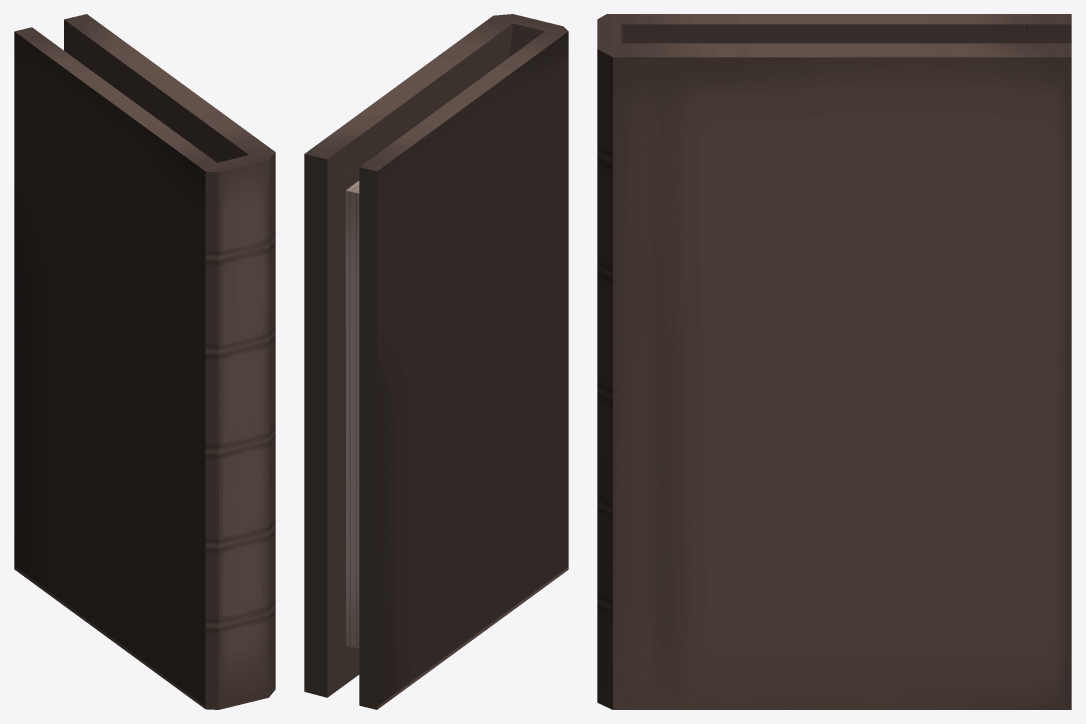
File: Singlebook4.fbx
The picture shows the model from 3 angles, left to right: view 1: azimuth 30°, elevation 25°; view 2: azimuth 150°, elevation 25°; view 3: azimuth 270°, elevation 25°; orthographic projection. The views are drawn at different scales.
Parts seen in each view (by area): view 1: pCube8; view 2: pCube8; view 3: pCube8.
Part boxes in pixels (x1=…): pCube8: x1=14, y1=14, x2=275, y2=709; pCube8: x1=304, y1=14, x2=568, y2=709; pCube8: x1=597, y1=14, x2=1071, y2=709.
Size of the model in its own units: 0.6619 by 4.68 by 3.08.
1 material, 1 textured.
